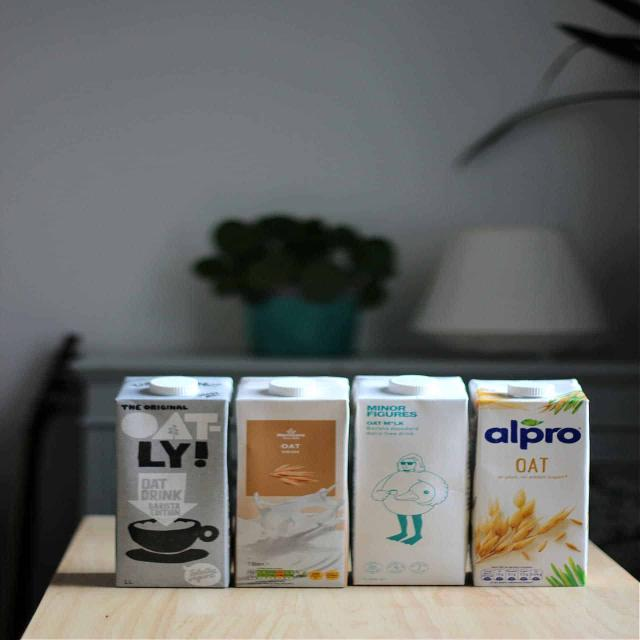cardboard: (114, 367, 234, 588), (350, 373, 473, 587), (468, 378, 590, 591), (235, 374, 354, 586)
